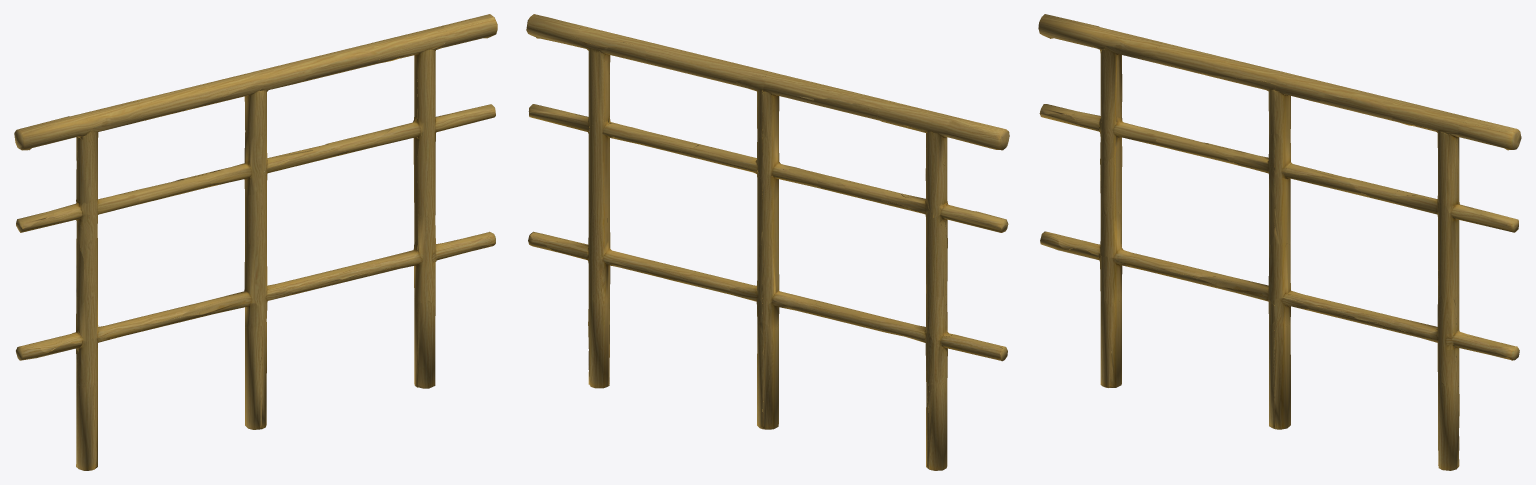
Rendered from barandadorada.glb.
3 renders of one model, left to right at view 1: azimuth 30°, elevation 25°; view 2: azimuth 150°, elevation 25°; view 3: azimuth 330°, elevation 25°, orthographic.
Parts seen in each view (by area): view 1: mesh_node; view 2: mesh_node; view 3: mesh_node.
Boxes of the visible parts, x1,y1,x2,y2 form: mesh_node: (14,14,497,470); mesh_node: (526,14,1009,470); mesh_node: (1038,14,1521,470).
Bounding box in the file's own units: 1 × 0.7113 × 0.0415.
Materials: 1 (1 with a texture image).
